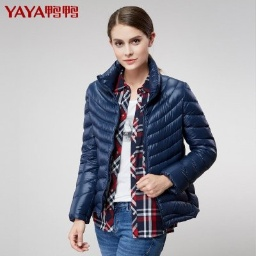face: (107, 5, 157, 71)
